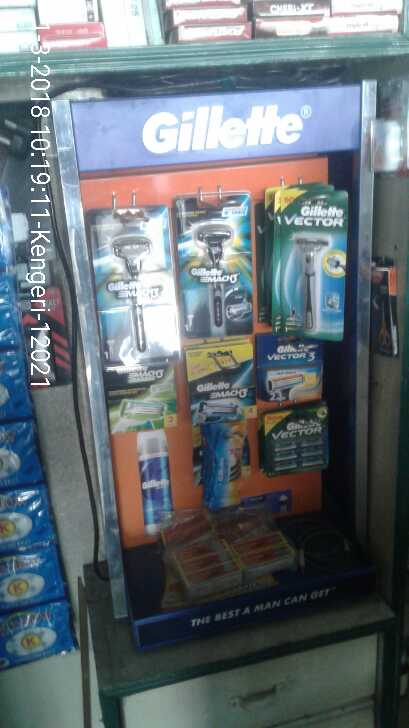gillette: (88, 209, 179, 367), (175, 195, 256, 332), (273, 196, 348, 336), (256, 342, 328, 397), (264, 412, 329, 469), (188, 353, 257, 406), (206, 423, 240, 494)
